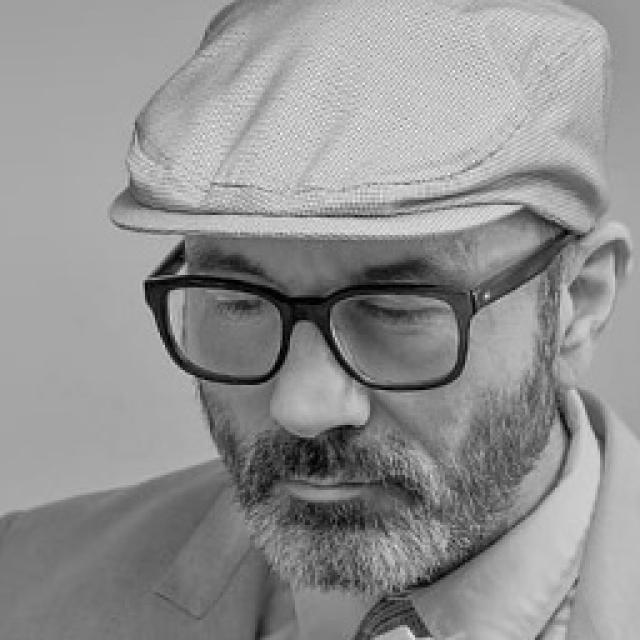glasses: (120, 226, 586, 391)
